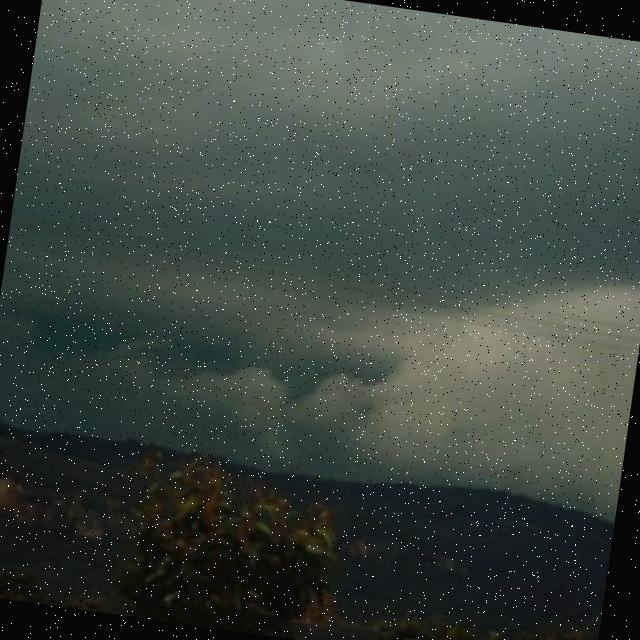St: (1, 1, 640, 471)
